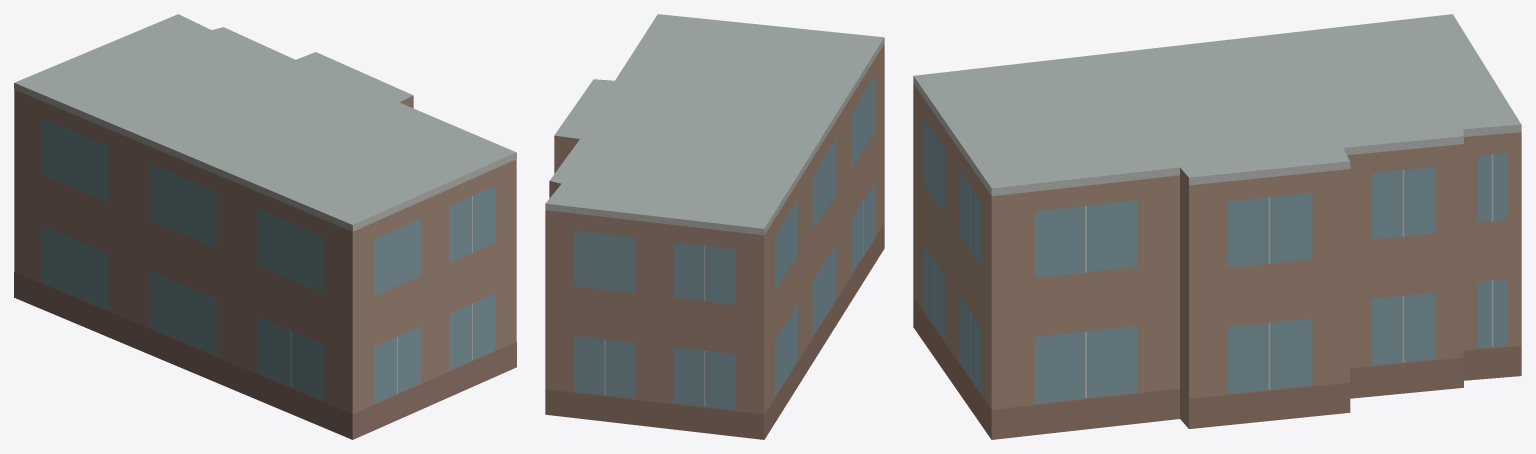
Rendered from survey-upis-32755755.glb.
3 renders of one model, left to right at view 1: azimuth 30°, elevation 25°; view 2: azimuth 150°, elevation 25°; view 3: azimuth 270°, elevation 25°, orthographic. The views are drawn at different scales.
Visible parts, largest first — view 1: survey-upis-32755755.tmp; view 2: survey-upis-32755755.tmp; view 3: survey-upis-32755755.tmp.
Boxes of the visible parts, <box> form: survey-upis-32755755.tmp: <box>14,14,516,439</box>; survey-upis-32755755.tmp: <box>545,14,884,439</box>; survey-upis-32755755.tmp: <box>913,14,1521,439</box>.
Bounding box in the file's own units: 11.77 × 7.9 × 17.33.
